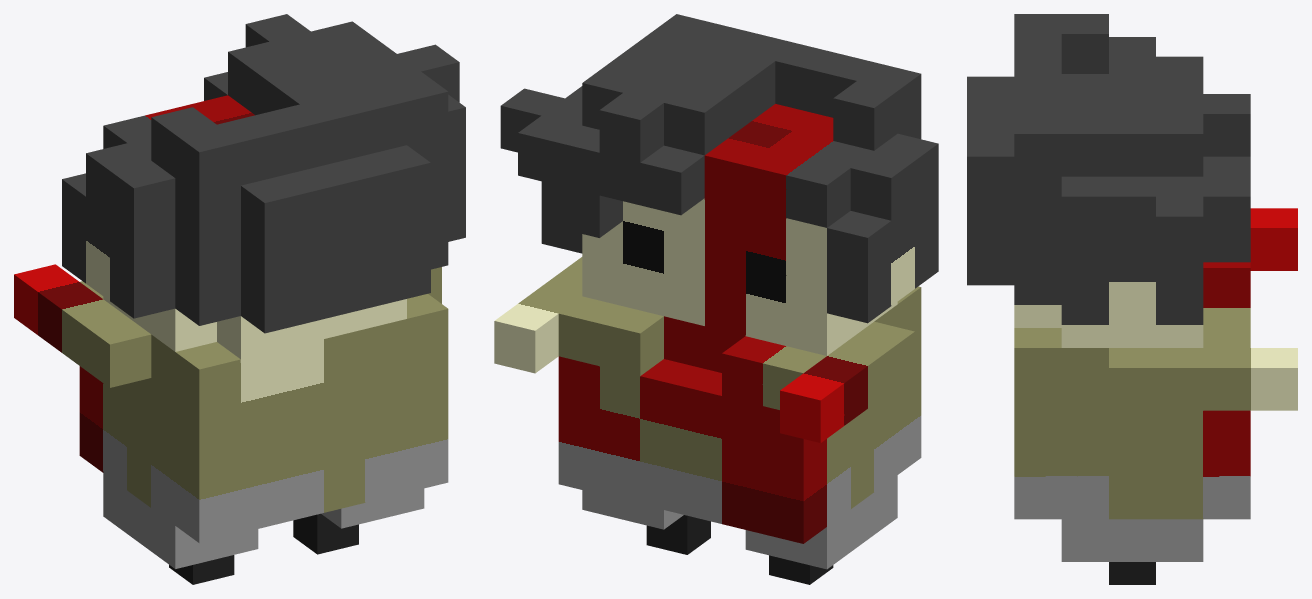
The model's file is chr_zombie4.dae.
3 views of the same model, side by side, from view 1: azimuth 30°, elevation 25°; view 2: azimuth 150°, elevation 25°; view 3: azimuth 270°, elevation 25° (orthographic).
Parts seen in each view (by area): view 1: chr_zombie4; view 2: chr_zombie4; view 3: chr_zombie4.
Boxes of the visible parts, left/top/right/bottom form: chr_zombie4: left=14, top=14, right=465, bottom=584; chr_zombie4: left=494, top=14, right=938, bottom=584; chr_zombie4: left=967, top=14, right=1297, bottom=584.
Bounding box in the file's own units: 0.9 × 0.7 × 1.1.
1 material, 1 textured.
